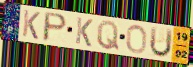K: (74, 16, 95, 49), (21, 8, 41, 41)
O: (125, 24, 148, 55)
P: (41, 11, 69, 43)
Q: (96, 20, 120, 52)
U: (149, 26, 175, 59)
